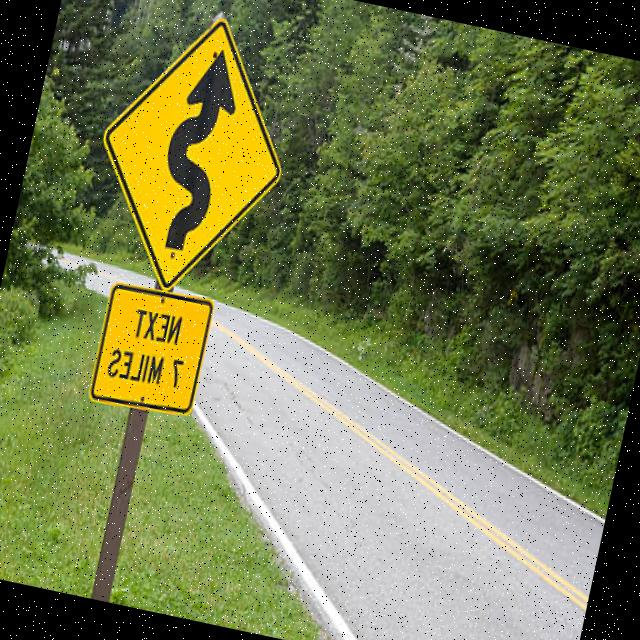left_sharp_curve: (67, 0, 326, 317)
